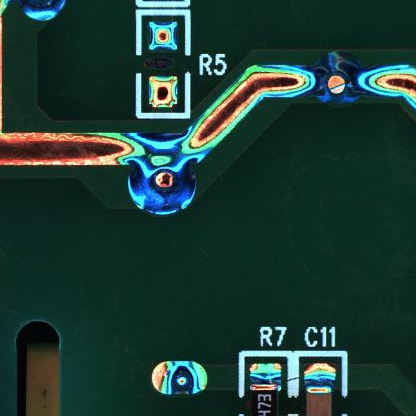spot: (125, 155, 197, 219), (312, 50, 363, 108), (150, 361, 206, 393)
